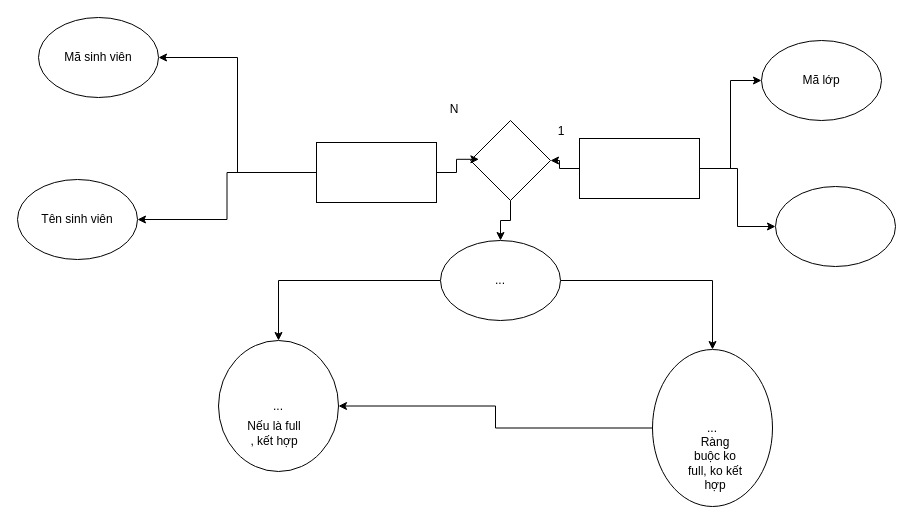
The diagram is 913 pixels wide and 524 high, and some of its shapes have lost their labels. Here are the shapes that lost their labels. From the top down, the box of each, then its label:
(316, 142, 436, 202): Sinh viên
(470, 120, 550, 200): Học
(578, 138, 700, 198): Lớp
